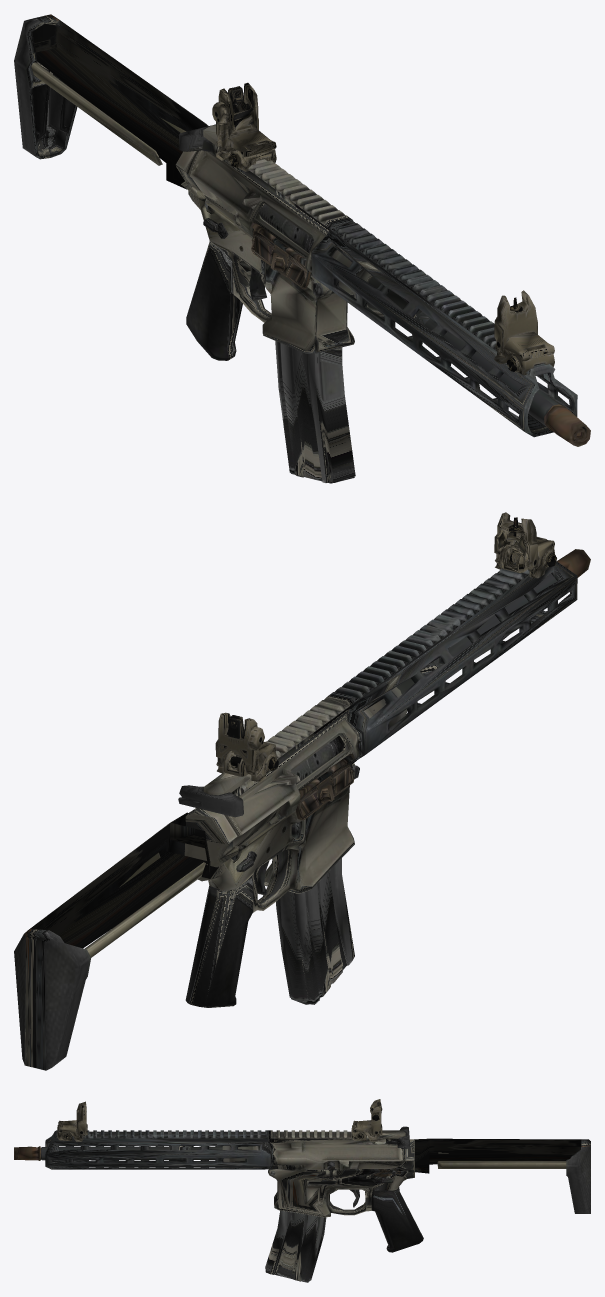
Rendered from badger.gltf.
3 renders of one model, top to bottom at view 1: azimuth 30°, elevation 25°; view 2: azimuth 150°, elevation 25°; view 3: azimuth 270°, elevation 25°, orthographic. The views are drawn at different scales.
Visible parts, largest first — view 1: model; view 2: model; view 3: model.
Part boxes in pixels (left/top/right/bottom): model: left=14, top=14, right=590, bottom=483; model: left=14, top=512, right=590, bottom=1070; model: left=14, top=1099, right=590, bottom=1282.
Size of the model in its own units: 0.0521 by 0.2579 by 0.76.
Materials: 4 (4 with a texture image).
